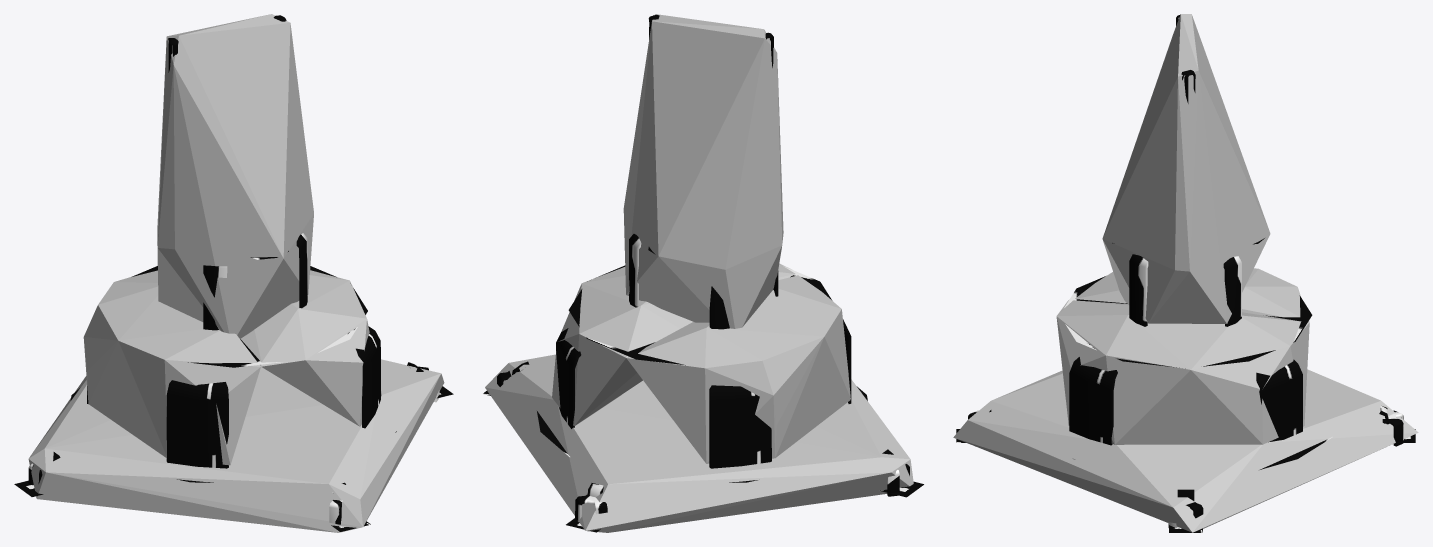
Rendered from SM_Prop_Fountain_01_Water_01.fbx.
3 renders of one model, left to right at view 1: azimuth 30°, elevation 25°; view 2: azimuth 150°, elevation 25°; view 3: azimuth 270°, elevation 25°, orthographic. The views are drawn at different scales.
Parts seen in each view (by area): view 1: SM_Prop_Fountain_01_Water_01_ConvexHulls, SM_Prop_Fountain_01_Water_01; view 2: SM_Prop_Fountain_01_Water_01_ConvexHulls, SM_Prop_Fountain_01_Water_01; view 3: SM_Prop_Fountain_01_Water_01_ConvexHulls, SM_Prop_Fountain_01_Water_01.
Boxes of the visible parts, x1=… form: SM_Prop_Fountain_01_Water_01_ConvexHulls: x1=28, y1=14, x2=444, y2=532; SM_Prop_Fountain_01_Water_01: x1=14, y1=15, x2=453, y2=531; SM_Prop_Fountain_01_Water_01_ConvexHulls: x1=485, y1=14, x2=913, y2=532; SM_Prop_Fountain_01_Water_01: x1=482, y1=14, x2=923, y2=532; SM_Prop_Fountain_01_Water_01_ConvexHulls: x1=953, y1=14, x2=1418, y2=532; SM_Prop_Fountain_01_Water_01: x1=956, y1=14, x2=1415, y2=532.
Bounding box in the file's own units: 611 × 615 × 584.
Materials: 2 (1 with a texture image).
